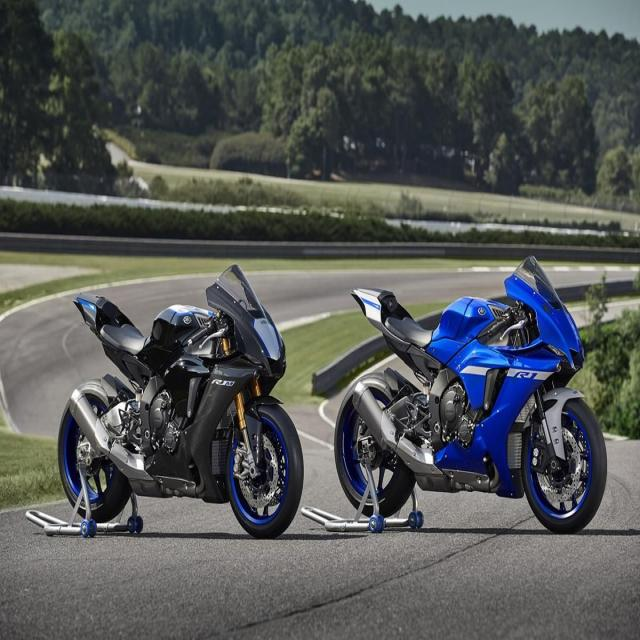Bike: (335, 257, 606, 532), (59, 264, 304, 538)
